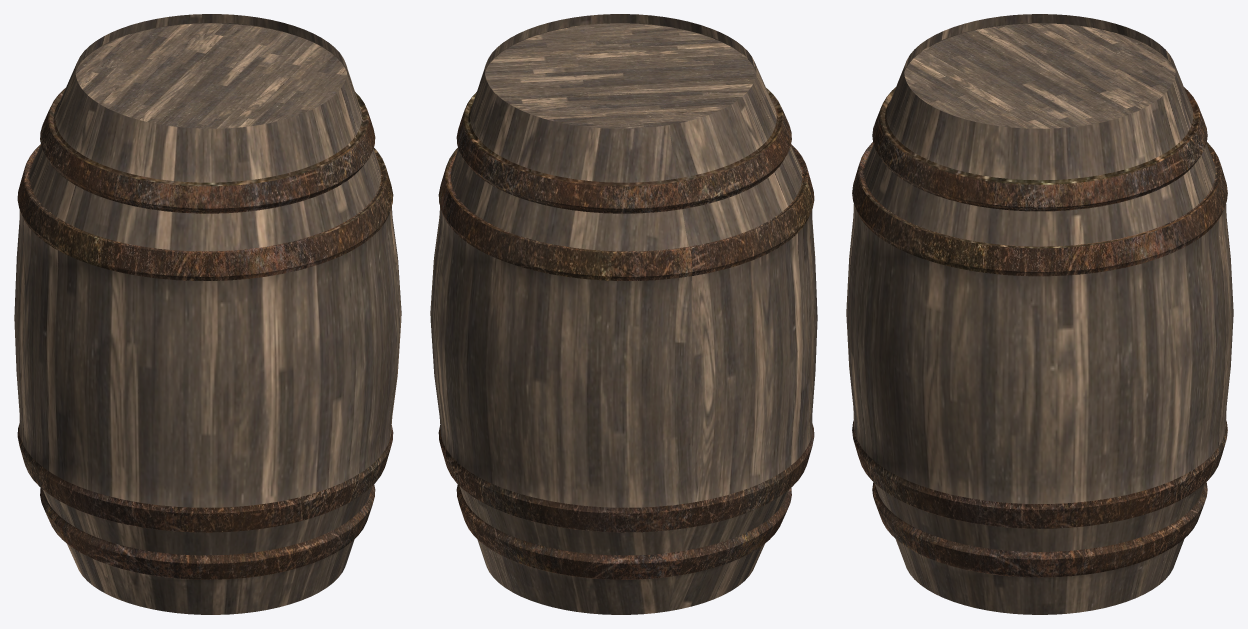
The model's file is Barril.fbx.
3 views of the same model, side by side, from view 1: azimuth 30°, elevation 25°; view 2: azimuth 150°, elevation 25°; view 3: azimuth 270°, elevation 25° (orthographic).
Visible parts, largest first — view 1: Barrel; view 2: Barrel; view 3: Barrel.
Part boxes in pixels (bbox=[...]): Barrel: bbox=[14, 14, 401, 614]; Barrel: bbox=[430, 14, 817, 614]; Barrel: bbox=[846, 14, 1233, 614].
Bounding box in the file's own units: 65 × 90 × 65.
